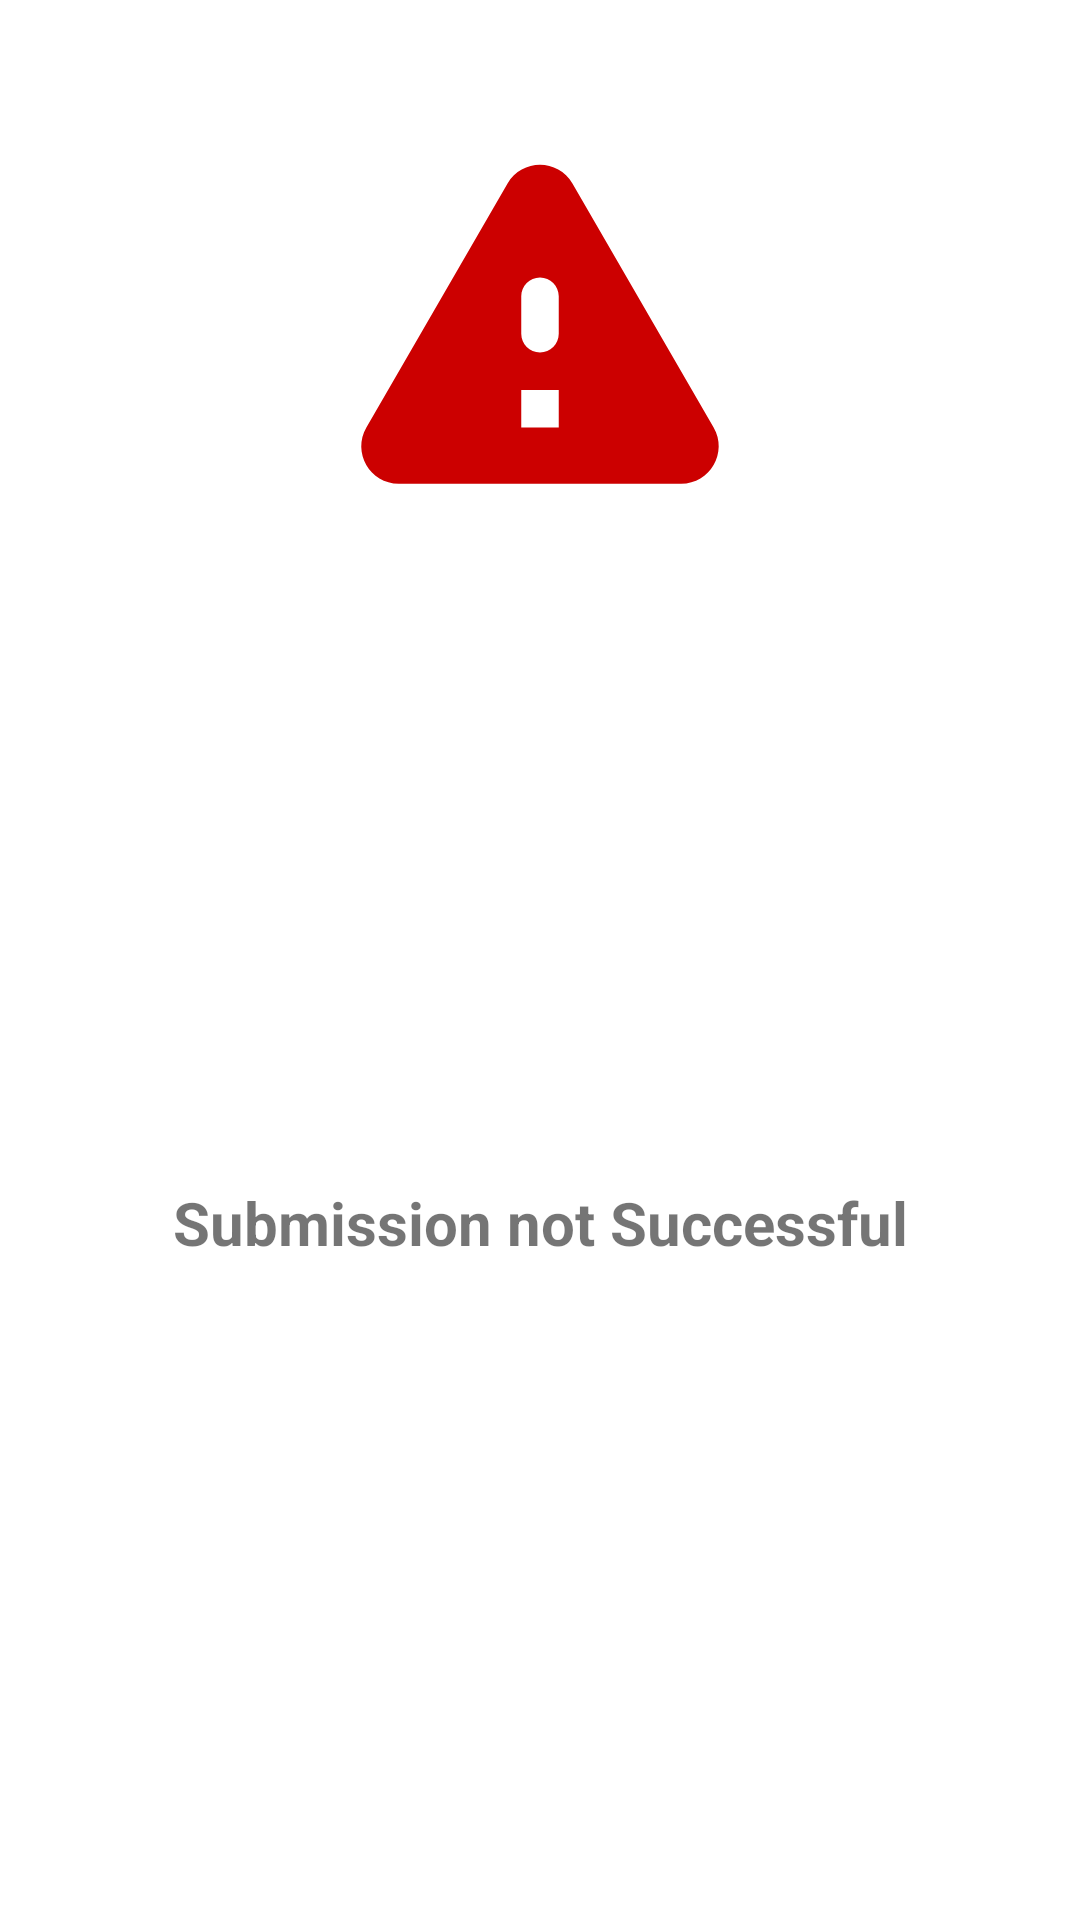

Named icons in this screenshot (1080w x 1920h) and their centers, [x,y]:
warning: [540,324]
